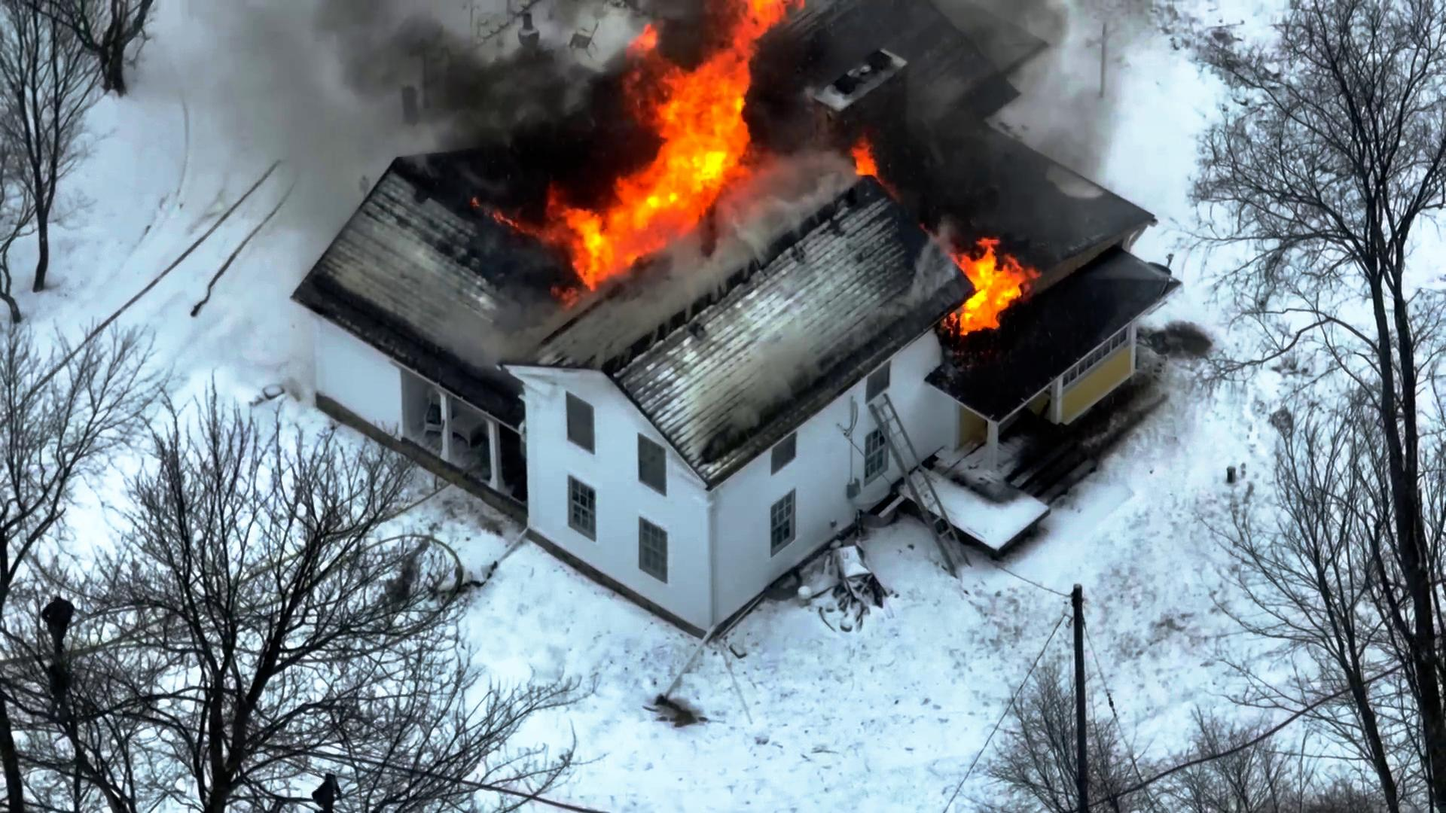fire: (642, 32, 757, 220), (528, 183, 677, 288), (923, 234, 1031, 347)
smoke: (454, 42, 594, 159)
